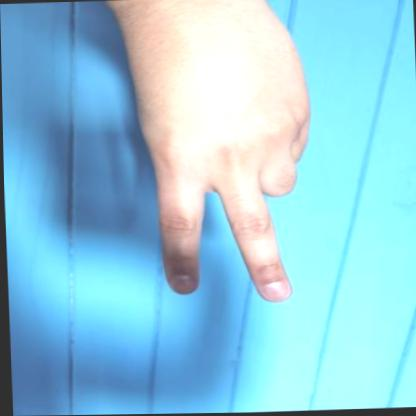N: (90, 0, 342, 320)
